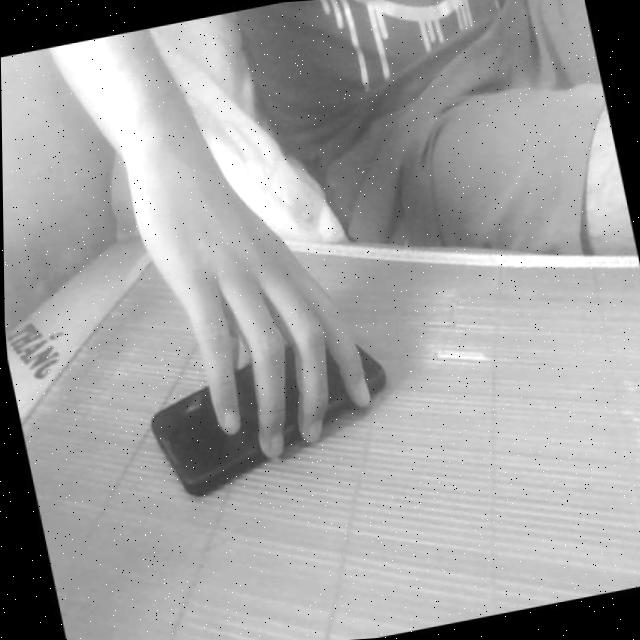phone: (117, 286, 420, 522)
